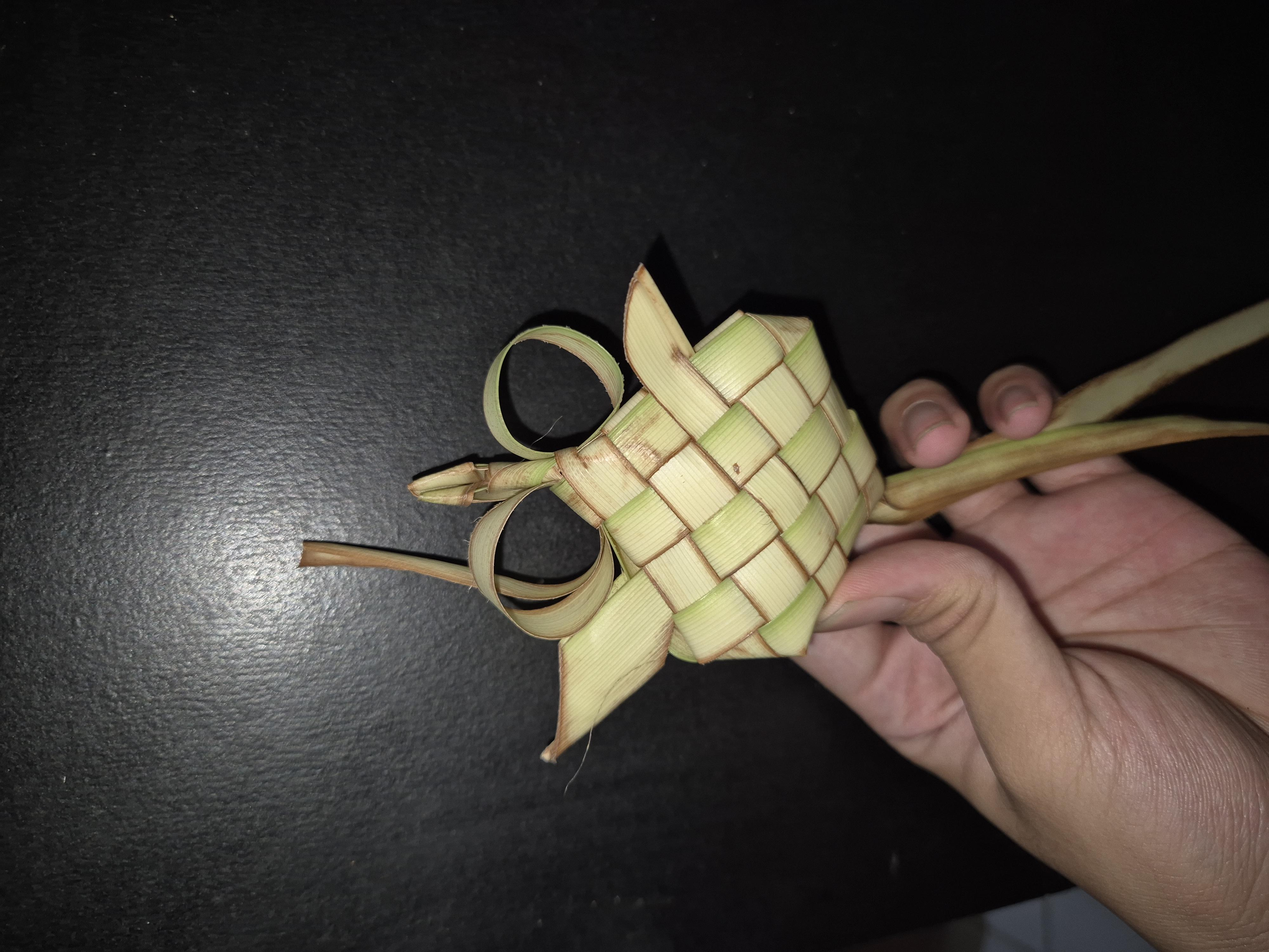Tipat Dampulan: (254, 226, 913, 664)
